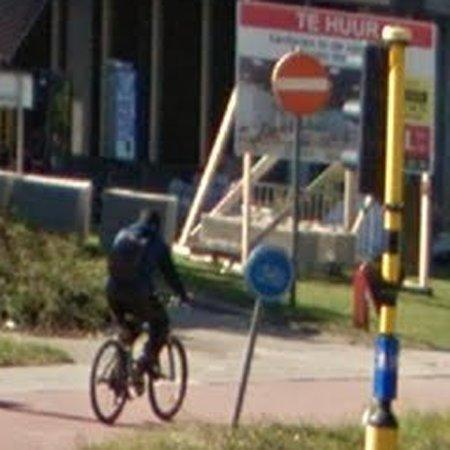bicycles: (90, 337, 188, 424)
